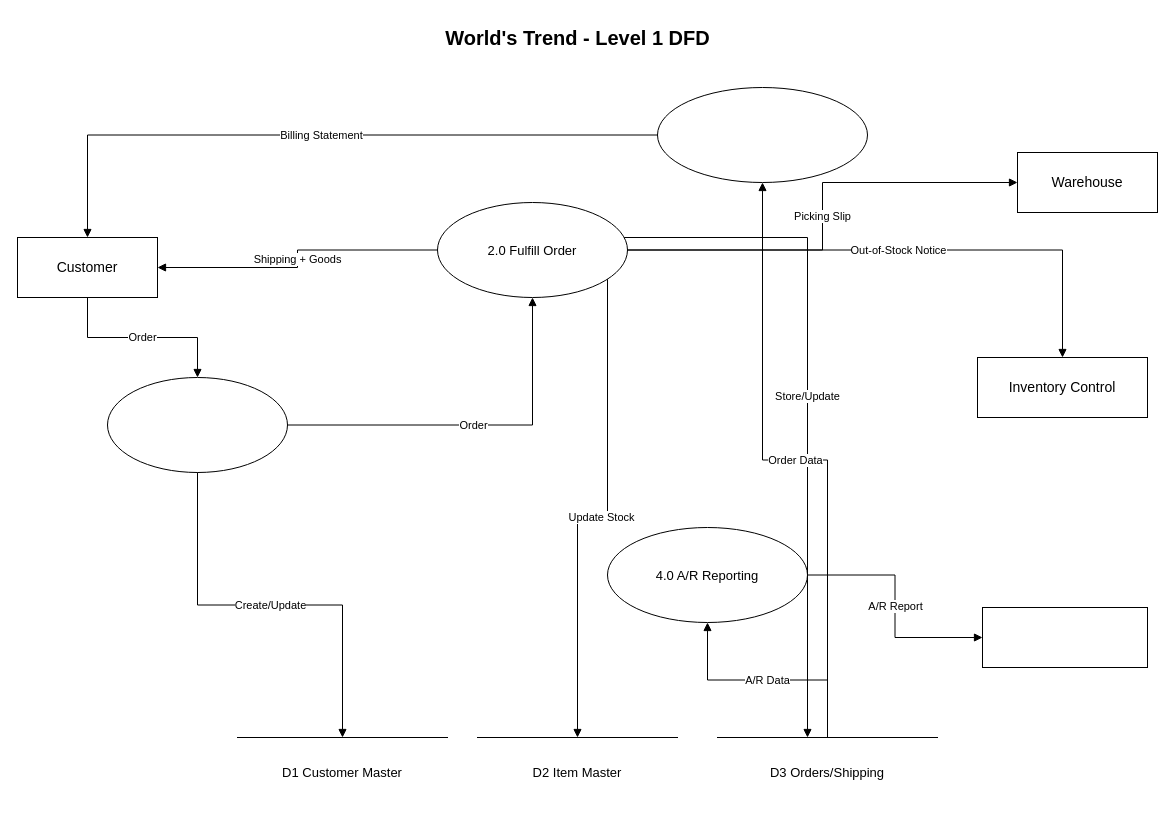
The diagram is 1175 pixels wide and 825 high, and some of its shapes have lost their labels. Each missing label, with the centre of its shape:
"1.0 Capture Order" goes at (x=197, y=424).
"3.0 Monthly Billing" goes at (x=762, y=134).
"Accounting Dept" goes at (x=1065, y=637).
